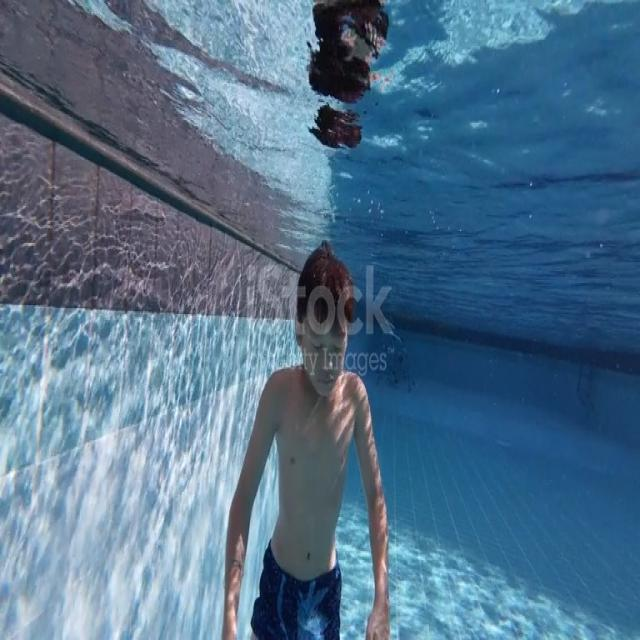Drowning: (222, 241, 389, 638)
